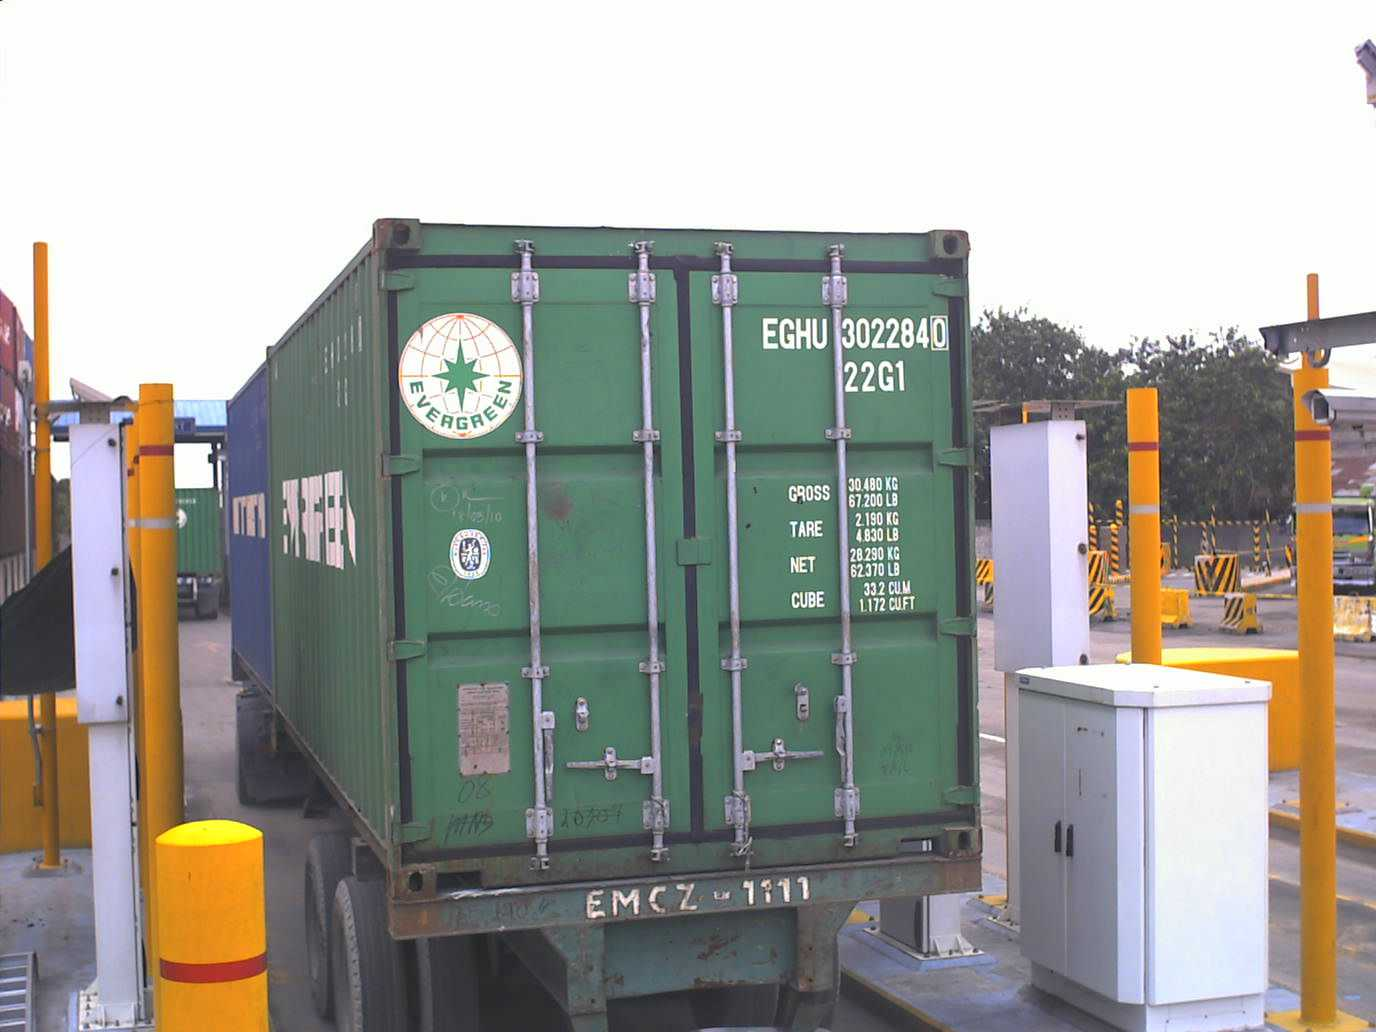container_door: (359, 212, 981, 869)
